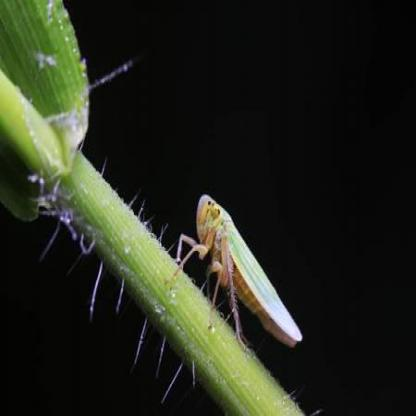Green-Leafhopper: (166, 186, 306, 365)
